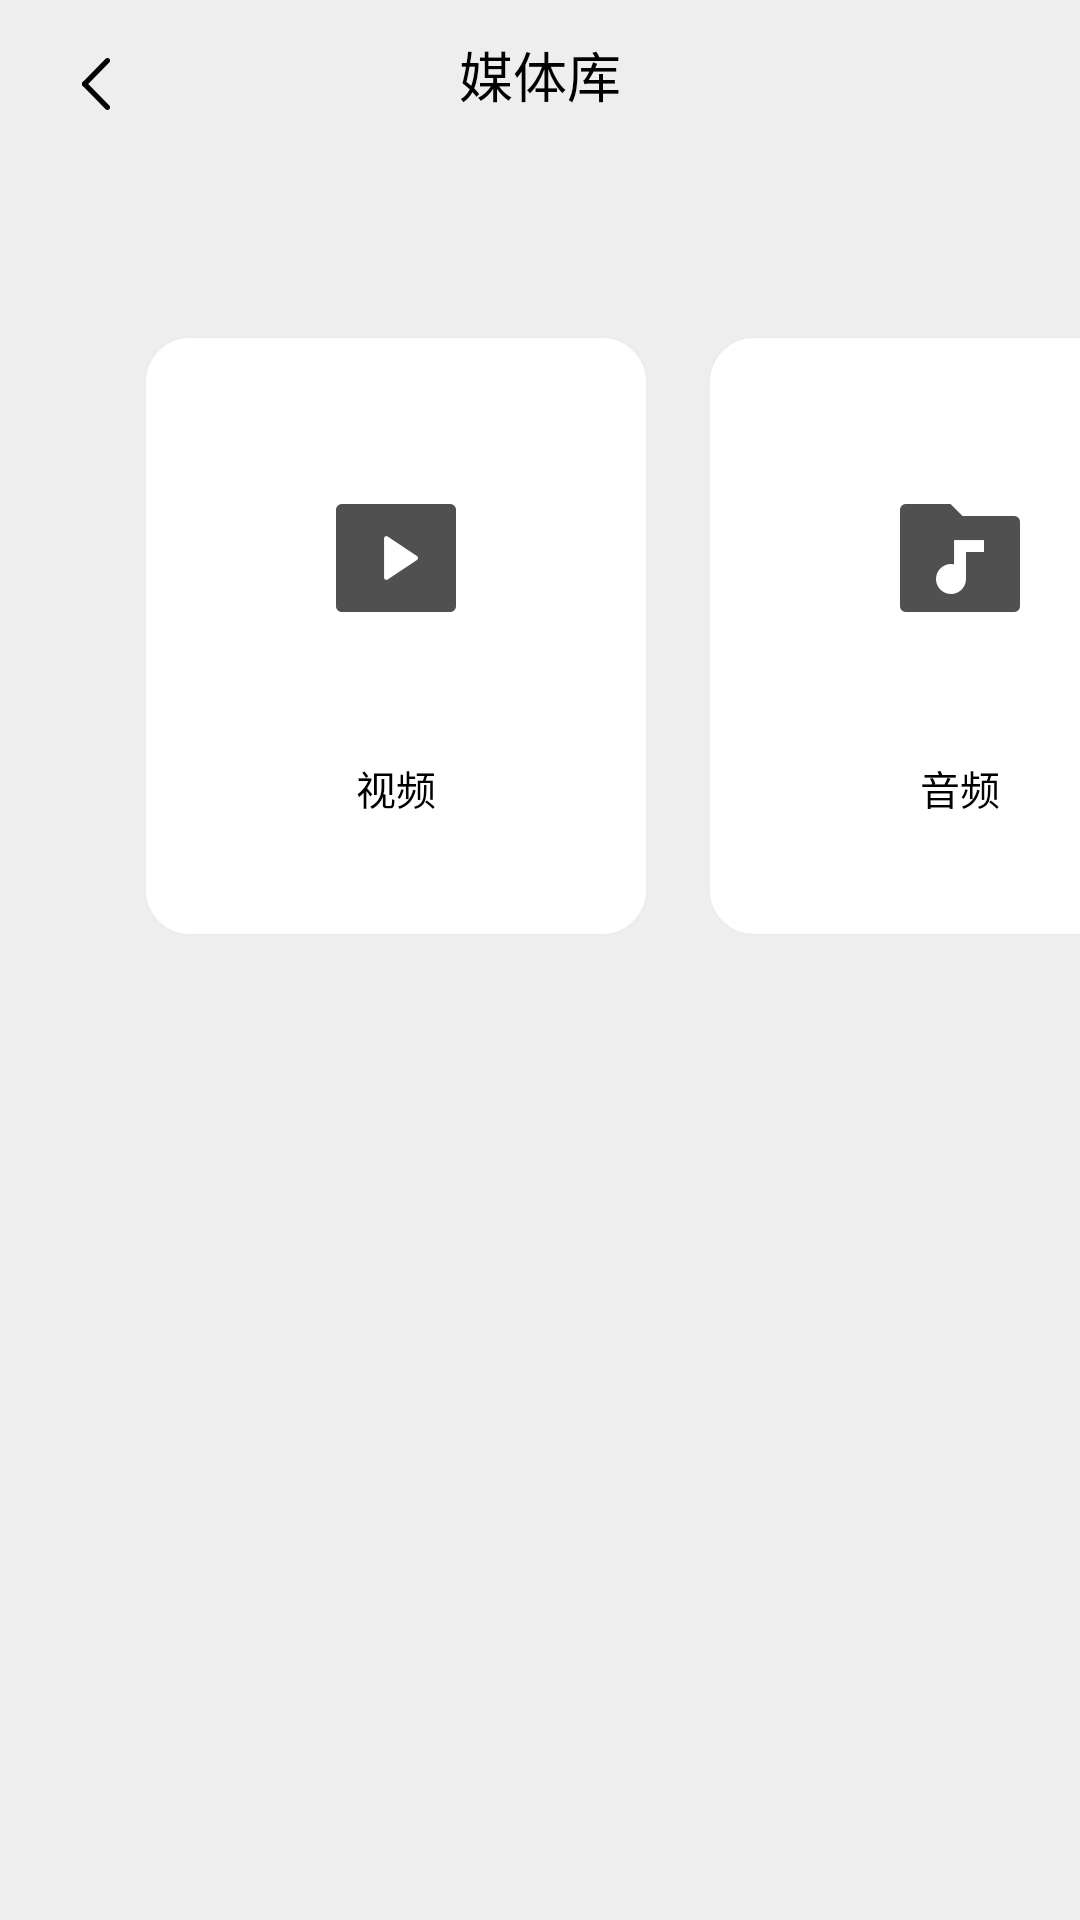

Icons on this 1080w x 1920h Android screen, each with the point to tap as (x=x, y=y):
controller medialib top back: (x=96, y=84)
